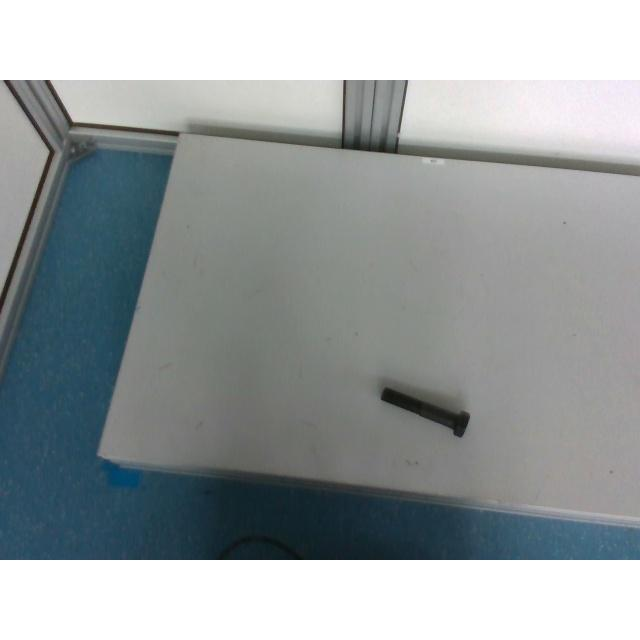M20_100: (382, 387, 471, 435)
